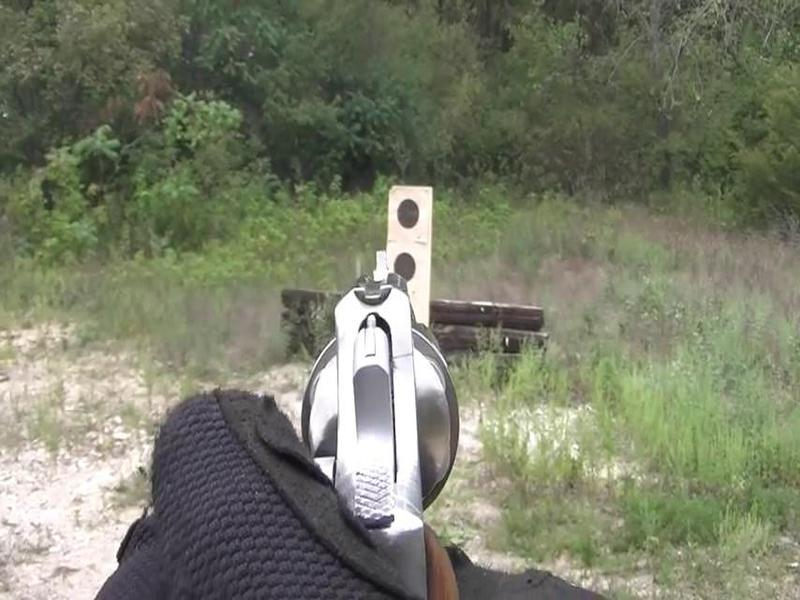Revolver: (274, 253, 483, 561)
